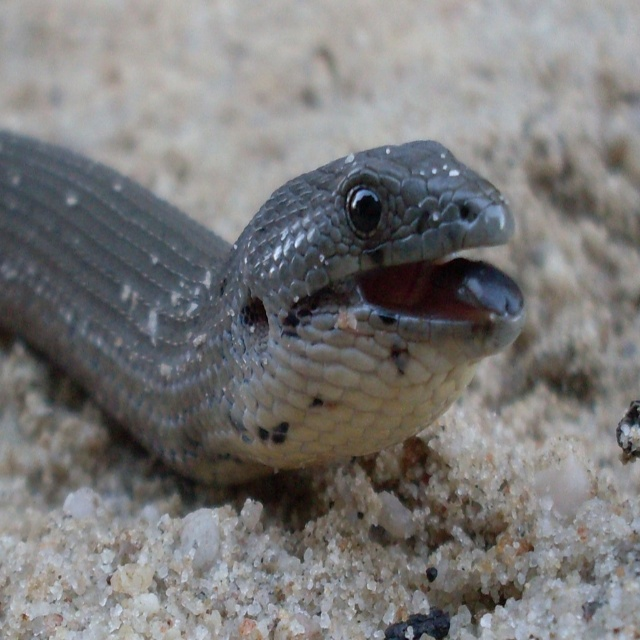Snake: (0, 127, 524, 488)
